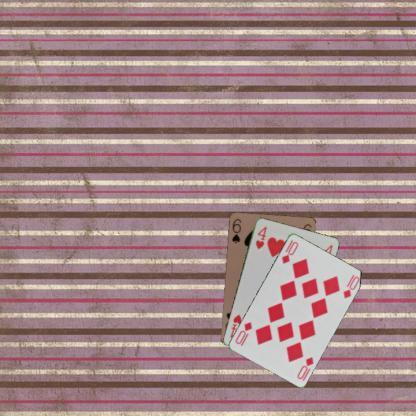10d: (294, 353, 315, 380), (279, 237, 299, 265)
4h: (253, 223, 268, 250)
6s: (230, 216, 242, 245)
